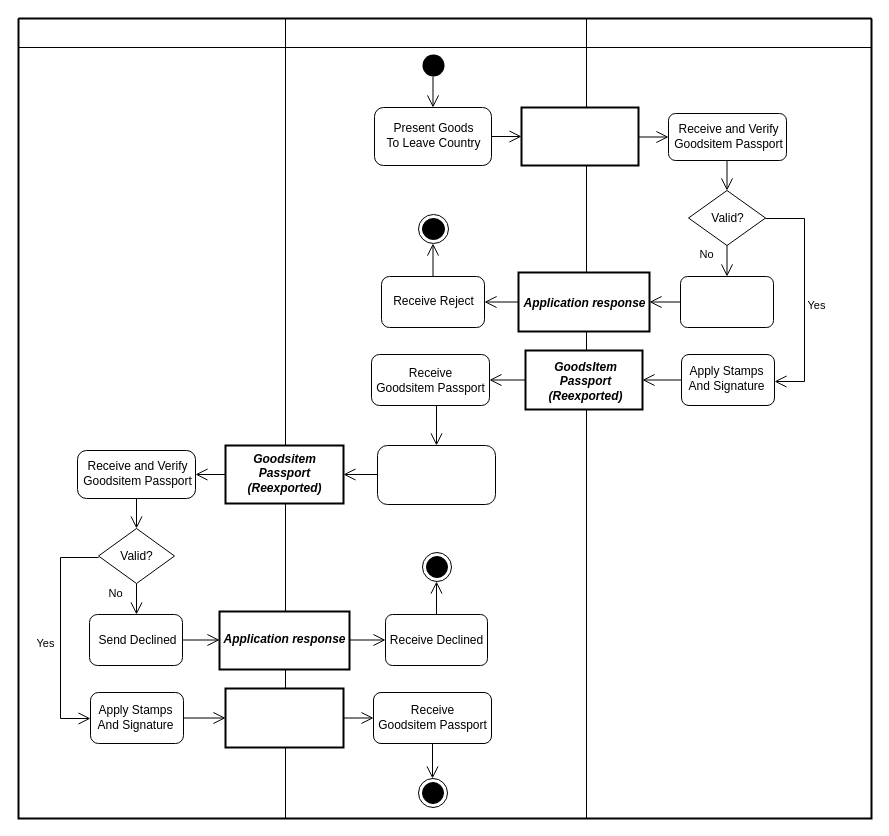
Image size: 889x836. Some labels were removed from this diagram. Here are the shapes that lost their labels. From the top down, the box of each, then its label:
(520, 106, 639, 166): Goodsitem Passport (Imported)
(680, 276, 774, 328): Send Reject
(18, 18, 286, 818): Exporting Customs Party
(284, 18, 586, 818): Representative Party
(586, 18, 872, 818): Importing Customs Party
(376, 444, 496, 504): Present Goods To Re-enter Country
(224, 687, 344, 748): GoodsItem Passport (Reimported)
